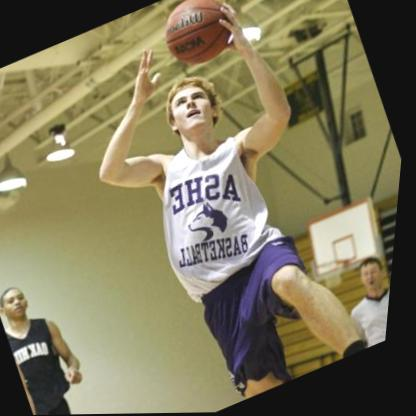basketball: (150, 0, 242, 75)
